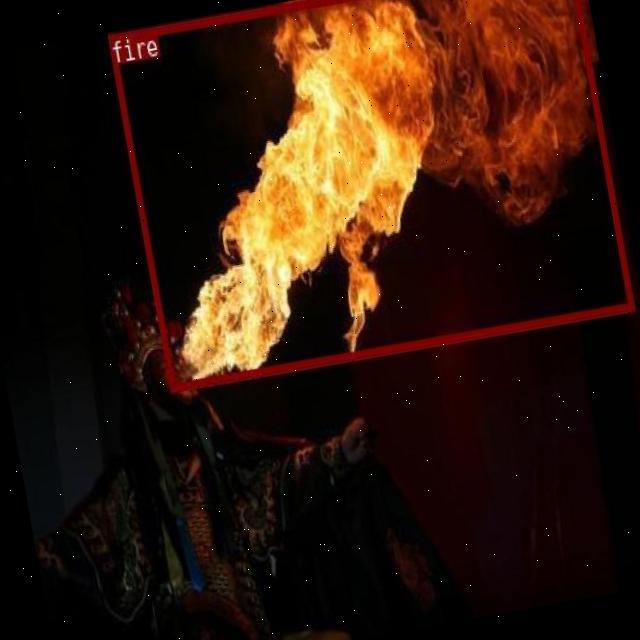fire: (106, 0, 634, 390)
